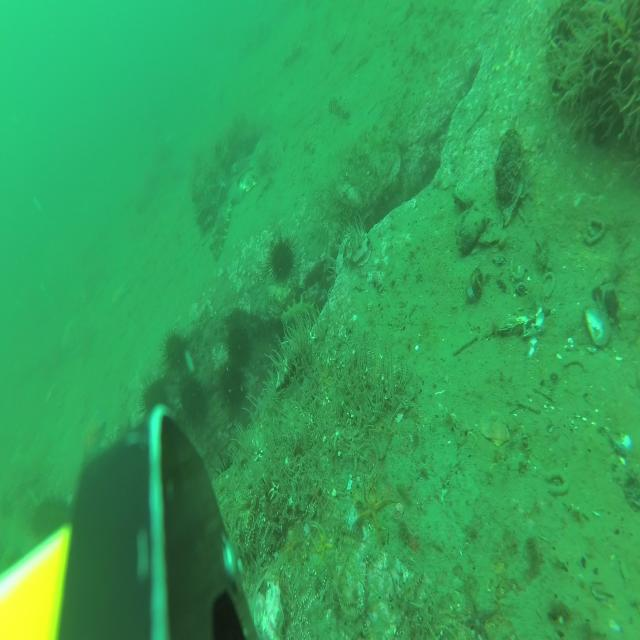echinus: (34, 496, 69, 540), (215, 447, 245, 497), (268, 236, 296, 286), (140, 379, 170, 425), (223, 365, 246, 414), (164, 330, 187, 378), (180, 379, 204, 423), (229, 323, 251, 371)
holothurian: (282, 298, 319, 332), (214, 197, 232, 263), (329, 94, 349, 123), (283, 40, 304, 66), (303, 133, 316, 156)
scallop: (482, 408, 509, 448), (240, 171, 258, 193), (331, 28, 346, 51)
starfish: (358, 476, 396, 534)
